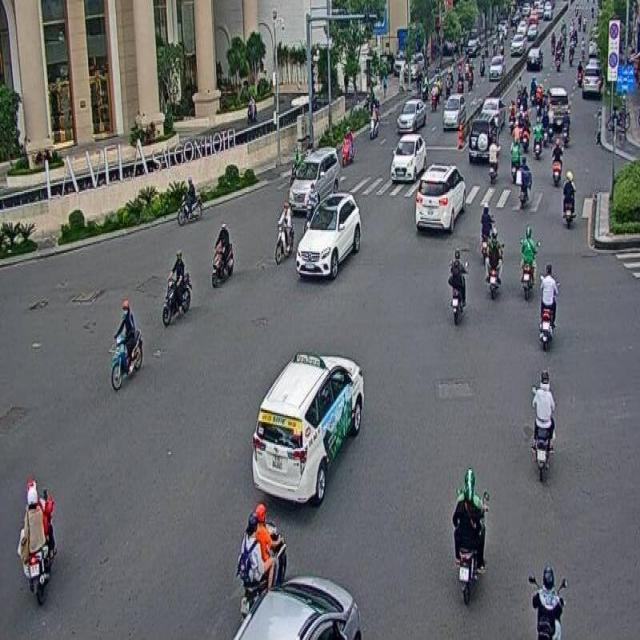car: (250, 344, 368, 515), (296, 192, 362, 280), (414, 163, 465, 232), (290, 145, 338, 215), (389, 132, 426, 182)
motorcycle: (235, 502, 286, 616), (450, 468, 490, 603), (20, 476, 54, 600), (530, 370, 556, 477), (162, 252, 191, 328), (537, 259, 558, 349), (212, 221, 236, 285), (448, 248, 468, 322), (518, 226, 538, 300), (272, 200, 294, 265), (483, 229, 504, 297)
